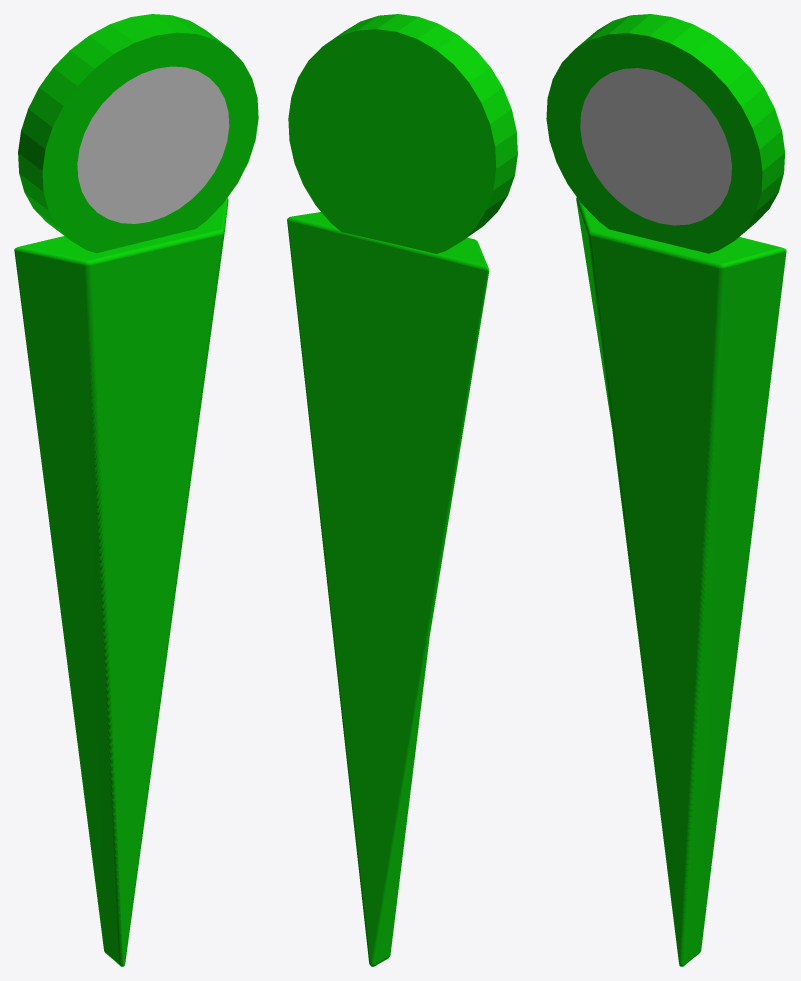
The model's file is arrow.dae.
3 views of the same model, side by side, from view 1: azimuth 30°, elevation 25°; view 2: azimuth 150°, elevation 25°; view 3: azimuth 330°, elevation 25° (orthographic). The views are drawn at different scales.
Visible parts, largest first — view 1: Arrow, Head, Indicator; view 2: Arrow, Head; view 3: Arrow, Head, Indicator.
Boxes of the visible parts, x1,y1,x2,y2 form: Arrow: (14, 198, 228, 966); Head: (18, 14, 258, 253); Indicator: (77, 66, 229, 223); Arrow: (287, 212, 489, 966); Head: (288, 14, 517, 253); Arrow: (576, 197, 786, 966); Head: (546, 14, 784, 253); Indicator: (580, 68, 731, 225).
Size of the model in its own units: 0.1864 by 0.0737 by 0.7846.
